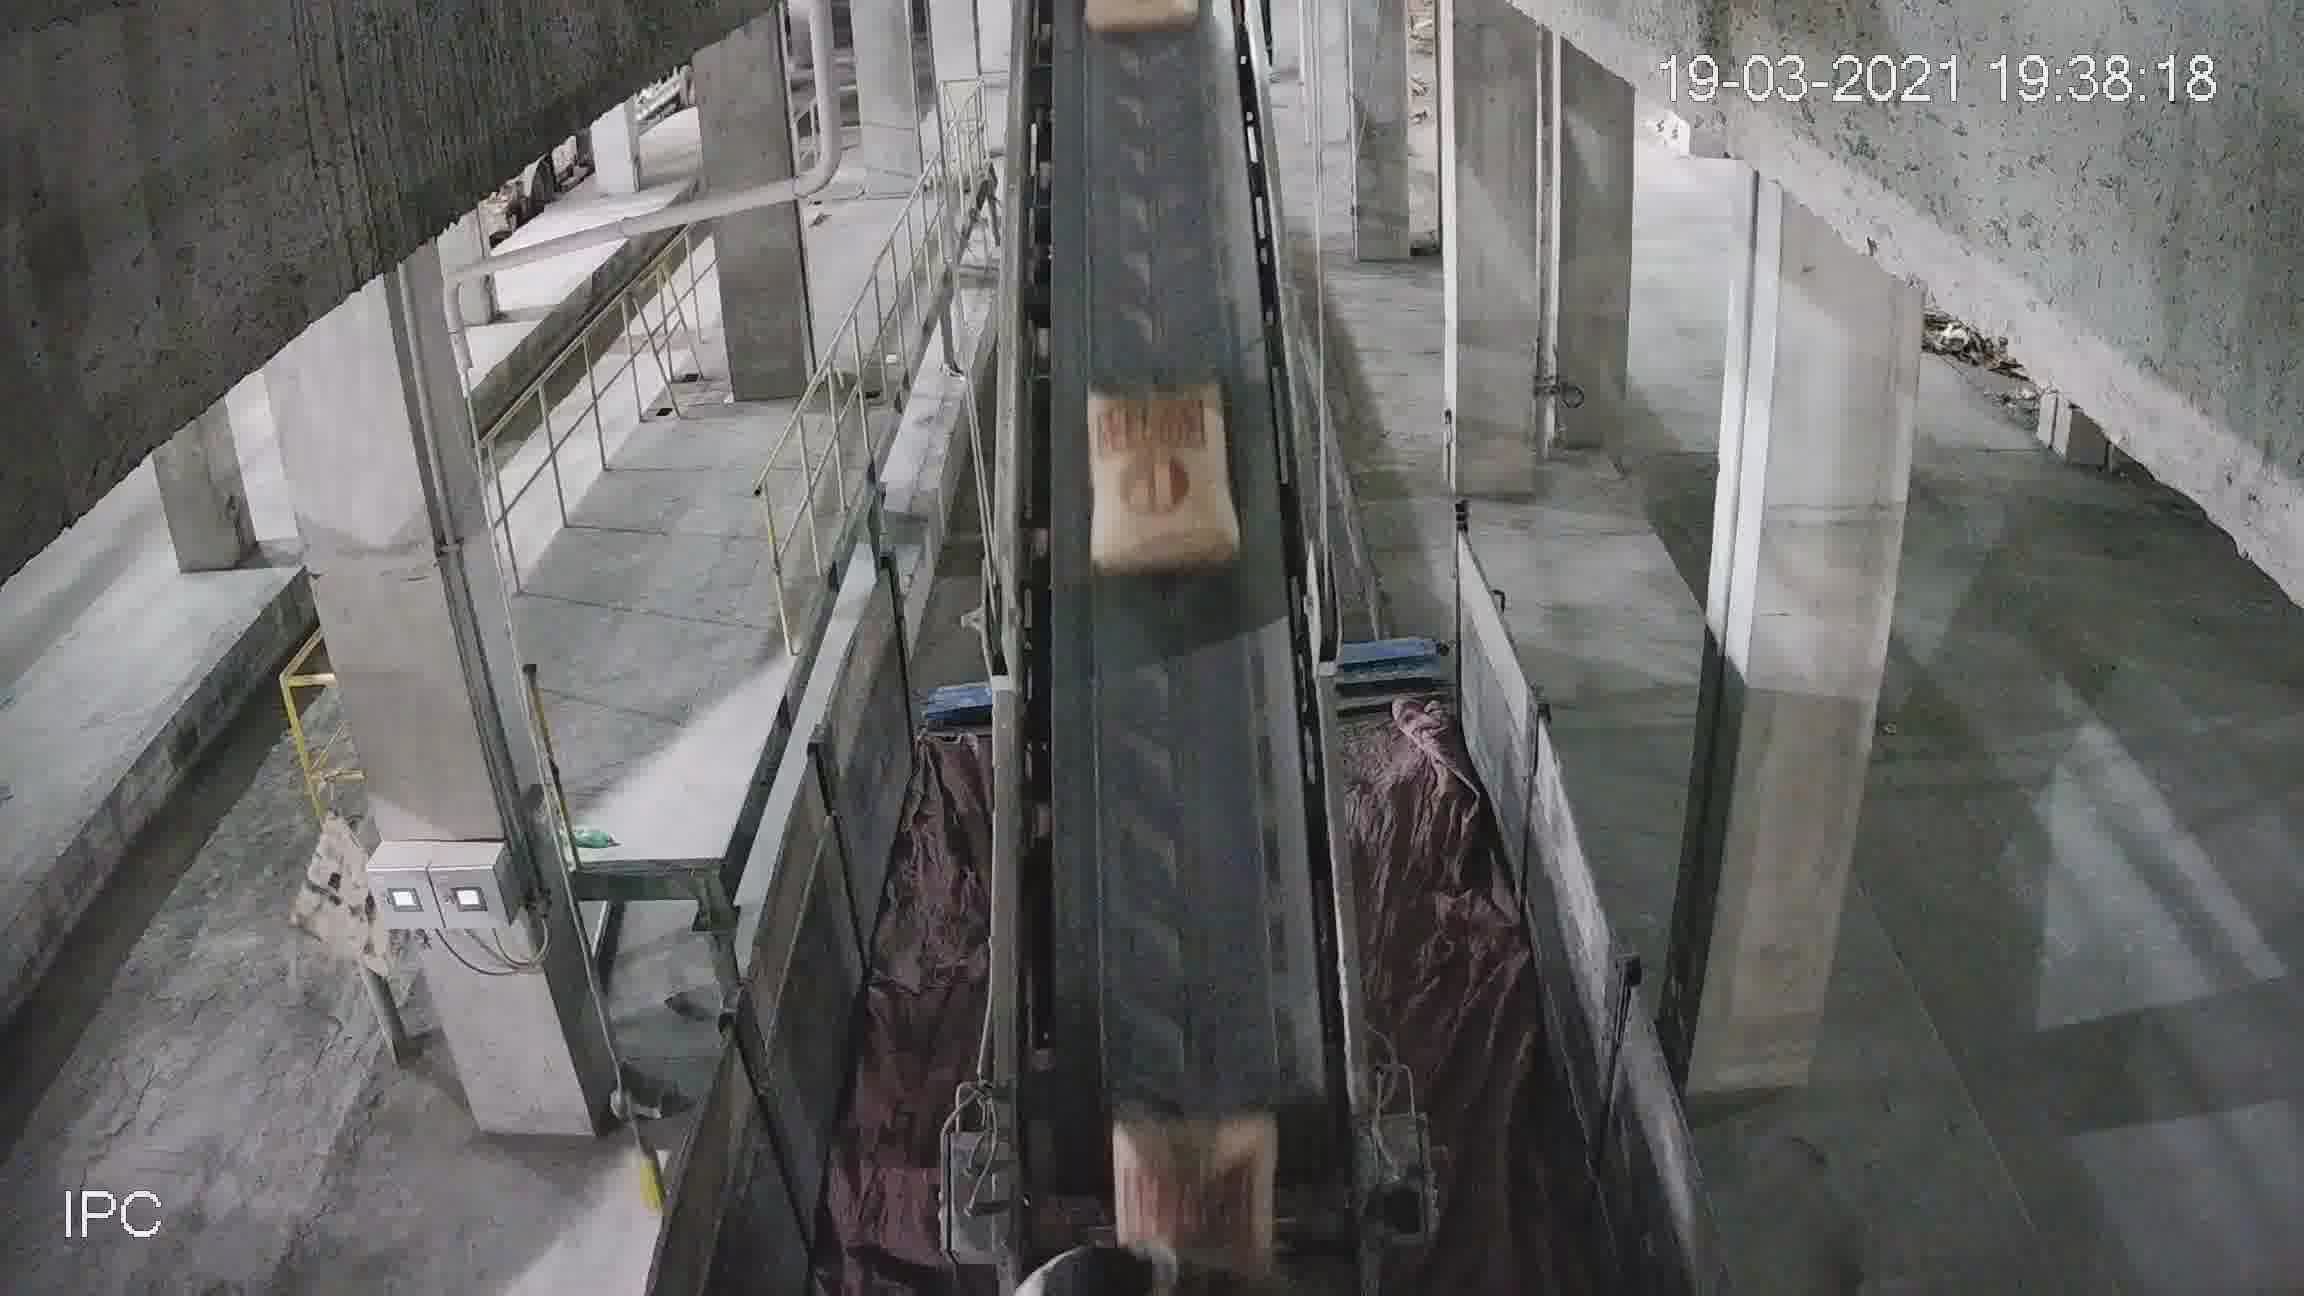bag: (1086, 370, 1237, 570), (1100, 1090, 1261, 1271)
belt: (989, 73, 1358, 1294)
